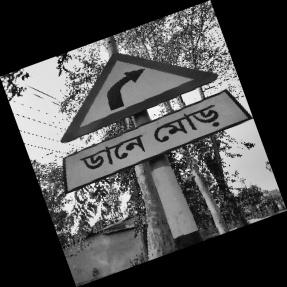Right-turn: (61, 50, 249, 197)
